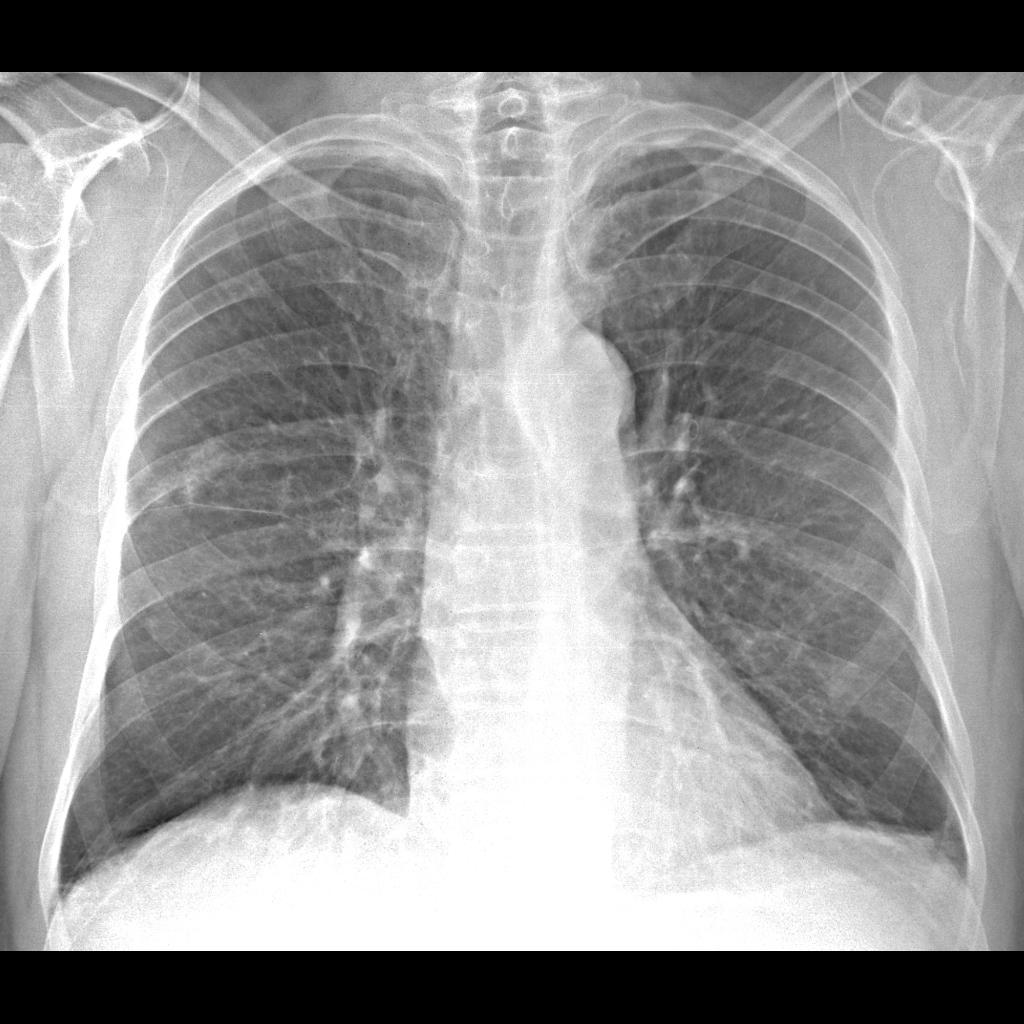Nodule: (174, 427, 271, 526)
